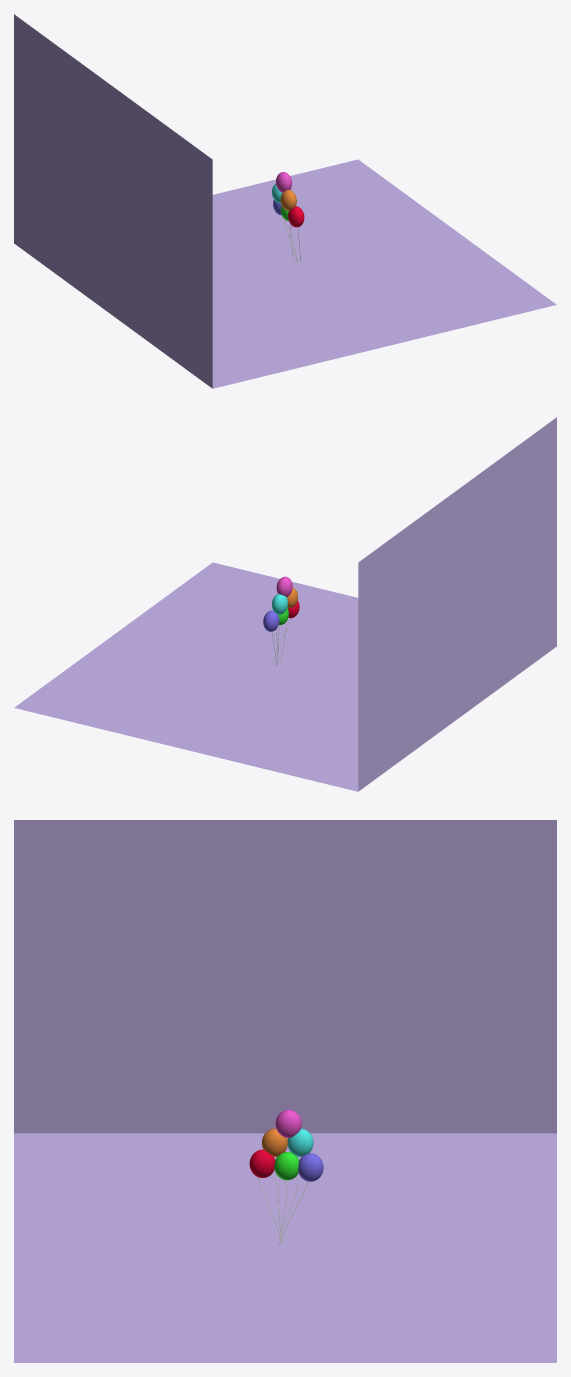
File: baloons.fbx
The picture shows the model from 3 angles, top to bottom: view 1: azimuth 30°, elevation 25°; view 2: azimuth 150°, elevation 25°; view 3: azimuth 270°, elevation 25°; orthographic projection. The views are drawn at different scales.
Parts seen in each view (by area): view 1: Plane; view 2: Plane; view 3: Plane.
Boxes of the visible parts, left/top/right/bottom form: Plane: left=14, top=14, right=556, bottom=388; Plane: left=14, top=417, right=556, bottom=791; Plane: left=14, top=820, right=556, bottom=1362.
Bounding box in the file's own units: 3417 × 2174 × 3417.
